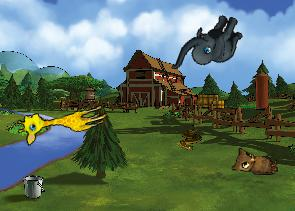elephant: (170, 2, 247, 87)
giraffe: (14, 93, 109, 147)
owl: (231, 146, 278, 175)
